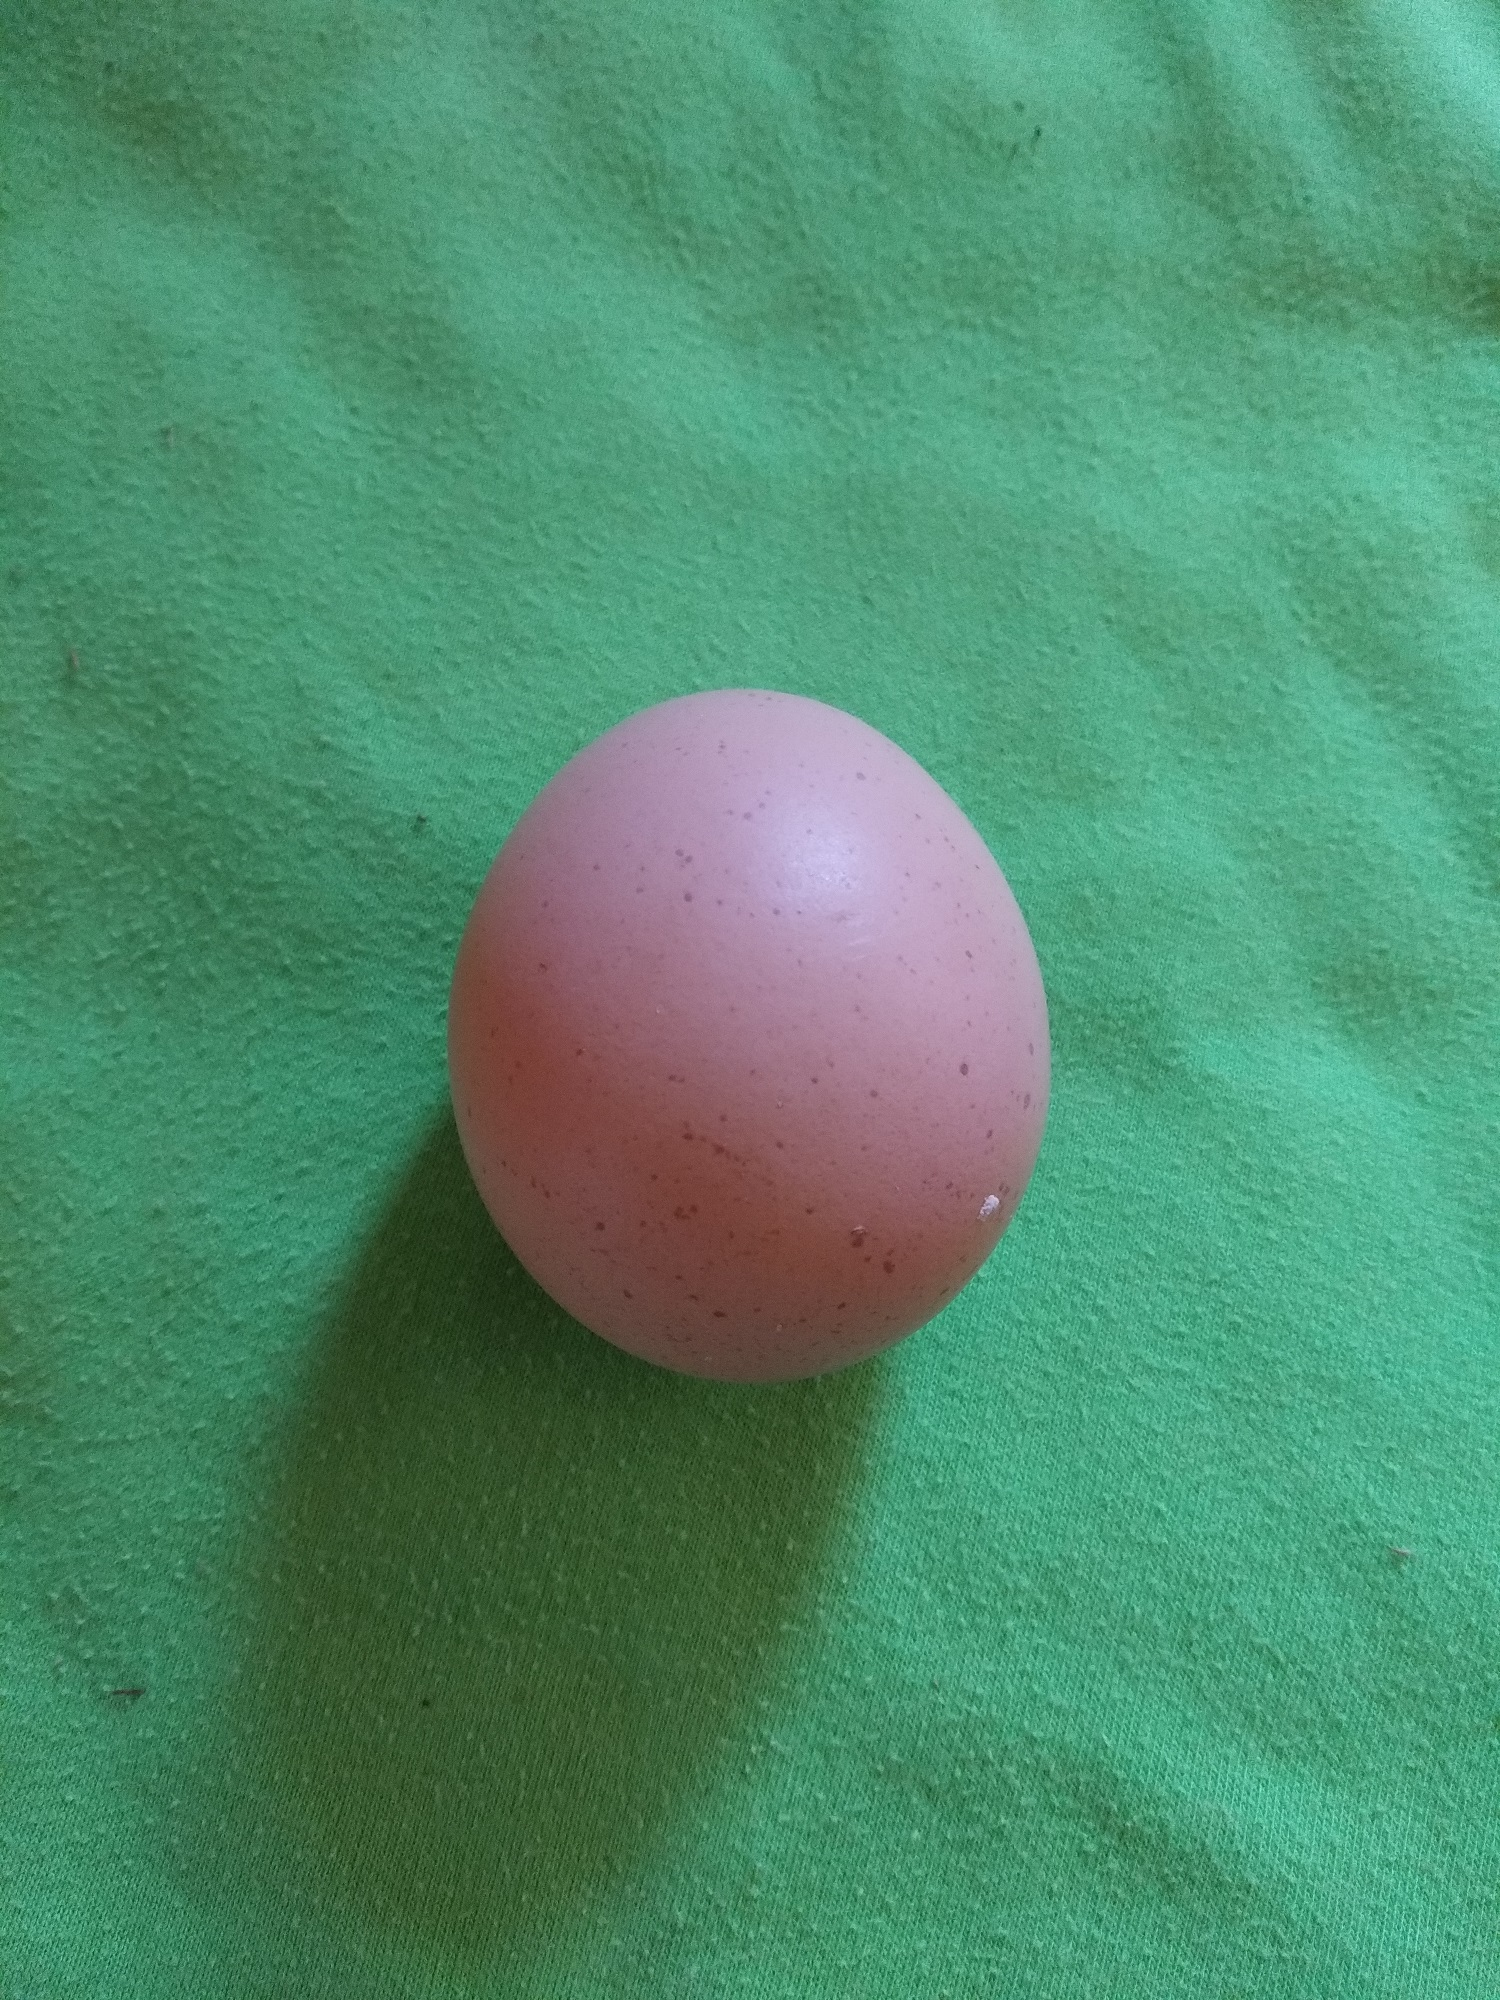Female: (440, 683, 1057, 1397)
